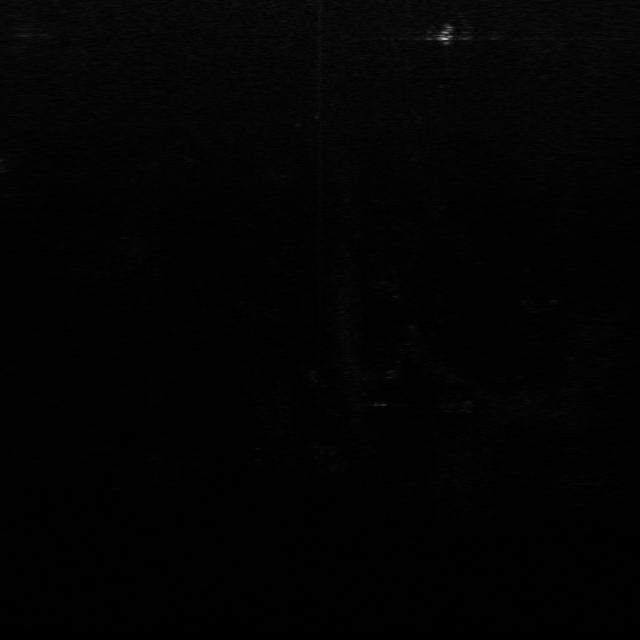rov: (434, 19, 460, 44)
